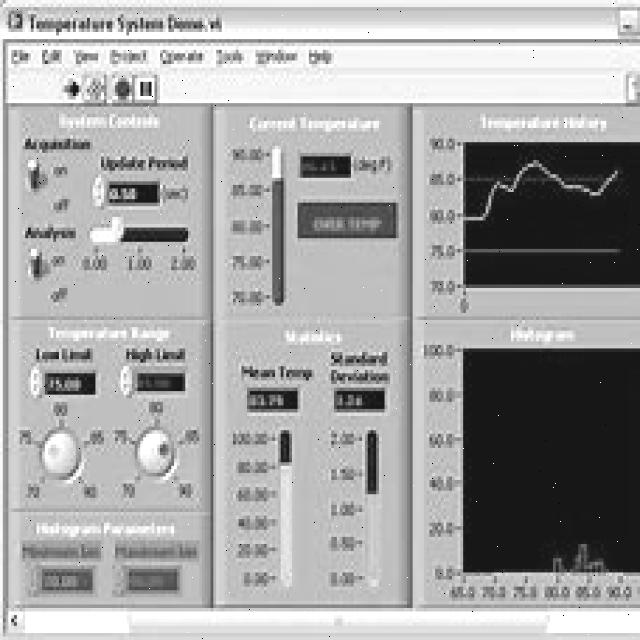button: (296, 197, 398, 240), (616, 6, 640, 38), (108, 71, 133, 101), (134, 72, 158, 102), (83, 74, 107, 104), (60, 74, 83, 104)
label: (18, 133, 96, 155), (20, 220, 80, 241)
menu: (5, 42, 639, 72)
slider: (11, 398, 111, 506), (112, 398, 206, 510), (84, 215, 197, 249), (20, 557, 99, 597), (87, 173, 162, 214), (110, 561, 185, 601)
switch: (23, 154, 51, 198), (23, 246, 53, 283)
